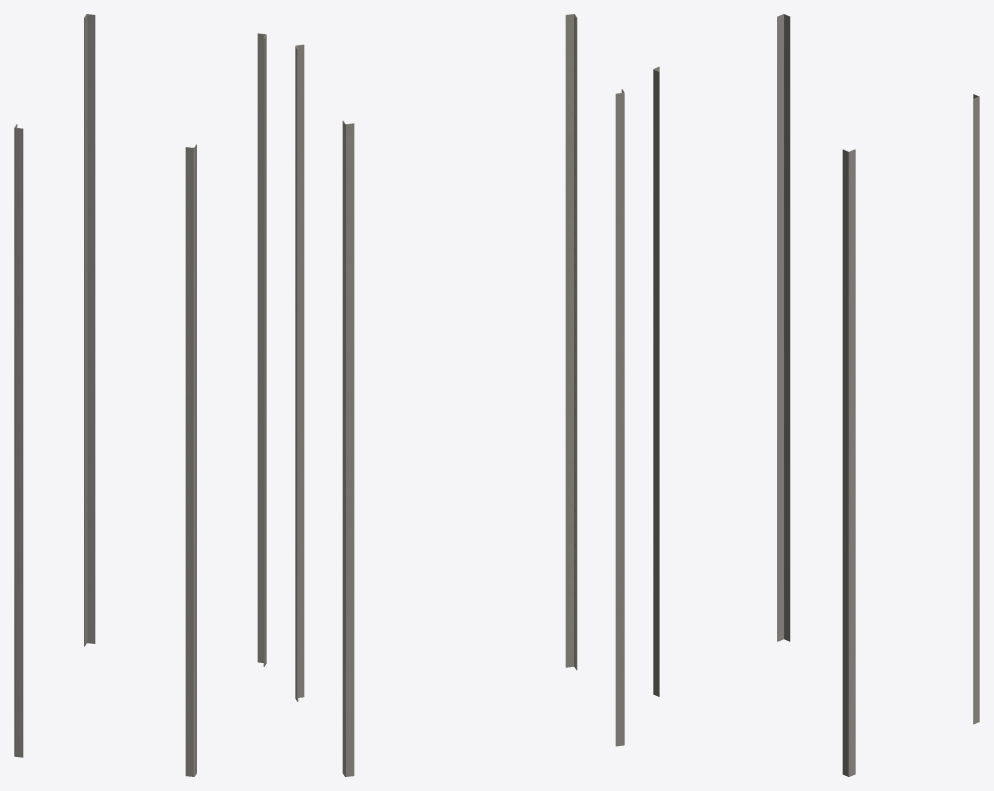
The model's file is shelf_0301_t50_h1500_w600.glb.
3 renders of one model, left to right at view 1: azimuth 30°, elevation 25°; view 2: azimuth 150°, elevation 25°; view 3: azimuth 270°, elevation 25°, orthographic. The views are drawn at different scales.
Visible parts, largest first — view 1: shelf_0301_t50_h1500_w600; view 2: shelf_0301_t50_h1500_w600; view 3: shelf_0301_t50_h1500_w600.
Boxes of the visible parts, <box> form: shelf_0301_t50_h1500_w600: <box>14,14,266,776</box>; shelf_0301_t50_h1500_w600: <box>295,14,624,776</box>; shelf_0301_t50_h1500_w600: <box>653,14,979,776</box>.
Size of the model in its own units: 0.7101 by 1.5 by 0.7101.
Materials: 1 (1 with a texture image).
